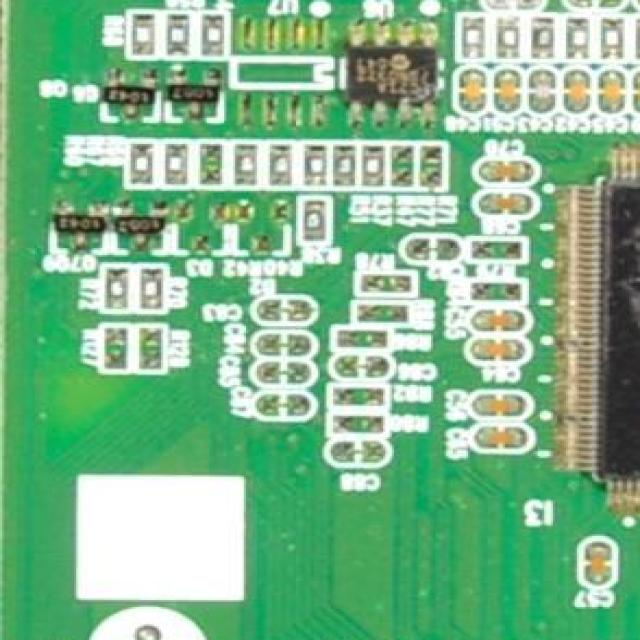IC: (555, 137, 640, 510), (355, 24, 442, 125)
capacitor: (89, 610, 206, 640), (250, 359, 316, 388), (594, 66, 629, 117), (331, 352, 391, 381), (252, 330, 314, 358), (255, 298, 318, 324), (405, 236, 459, 265), (492, 65, 525, 112), (257, 392, 312, 420), (475, 306, 529, 334), (474, 158, 534, 182), (581, 543, 616, 584), (477, 191, 532, 217), (457, 66, 488, 112), (531, 68, 561, 115), (560, 70, 592, 114), (466, 340, 526, 363), (470, 427, 526, 451), (331, 442, 386, 465), (475, 392, 525, 413), (568, 0, 624, 10), (484, 0, 546, 9), (633, 70, 640, 114), (631, 0, 639, 10)
resistor: (298, 194, 331, 246), (468, 236, 528, 263), (161, 12, 195, 59), (196, 12, 229, 60), (357, 270, 417, 296), (418, 139, 447, 189), (303, 140, 333, 188), (231, 142, 262, 188), (139, 264, 168, 313), (102, 267, 132, 313), (468, 279, 528, 302), (529, 14, 560, 58), (328, 415, 389, 437), (137, 326, 166, 372), (102, 326, 133, 369), (357, 300, 409, 325), (196, 142, 224, 188), (462, 12, 489, 59), (328, 387, 388, 408), (362, 140, 388, 188), (130, 12, 158, 56), (568, 16, 596, 60), (496, 14, 524, 57), (599, 14, 626, 58), (128, 143, 156, 185), (333, 328, 389, 349), (390, 142, 415, 189), (161, 142, 191, 181), (270, 144, 295, 188), (333, 143, 358, 185), (633, 14, 640, 55)
transistor: (166, 62, 220, 118), (52, 198, 102, 250), (107, 66, 154, 117), (118, 201, 164, 251)
